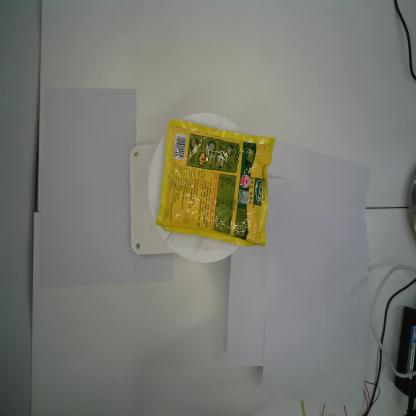Seasoner: (156, 119, 276, 247)
